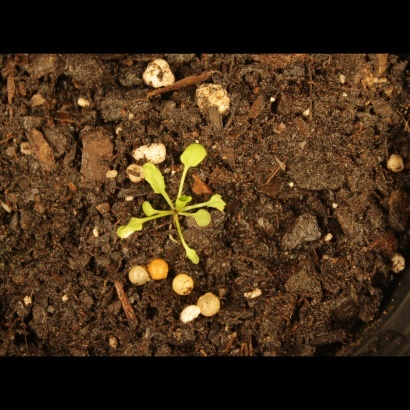leaf: (136, 161, 168, 199), (178, 138, 209, 172), (111, 216, 143, 243), (177, 241, 204, 267), (141, 199, 164, 222), (173, 193, 196, 216), (192, 208, 215, 231), (207, 192, 230, 215)
